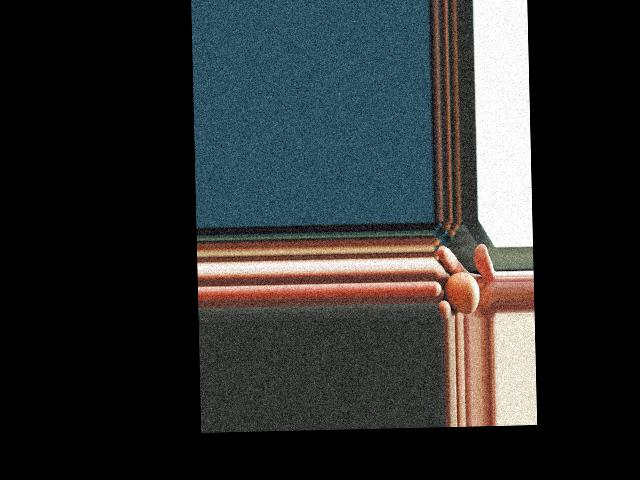egg: (443, 271, 479, 315)
